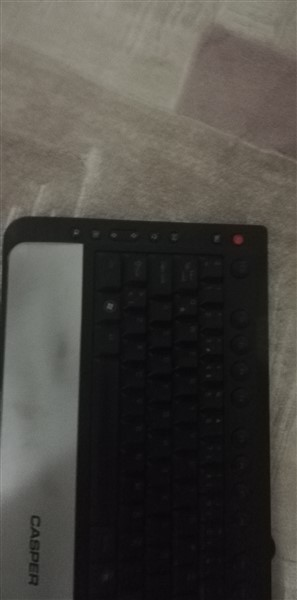klavye: (3, 216, 278, 597)
